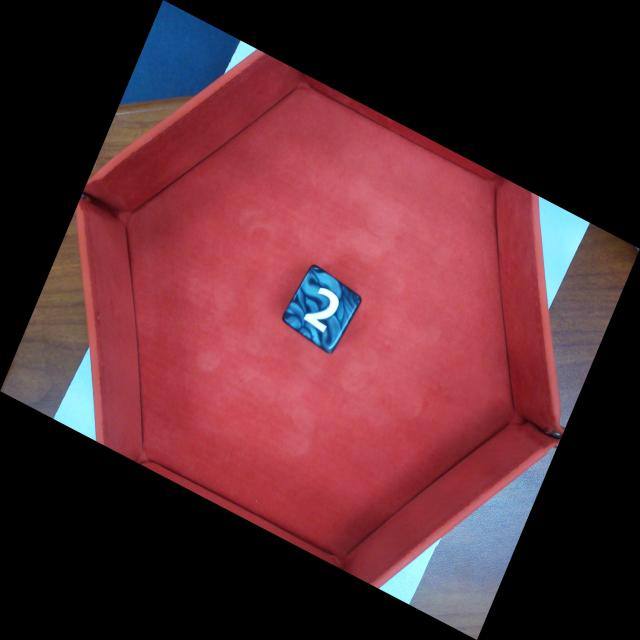dice: (284, 263, 363, 355)
